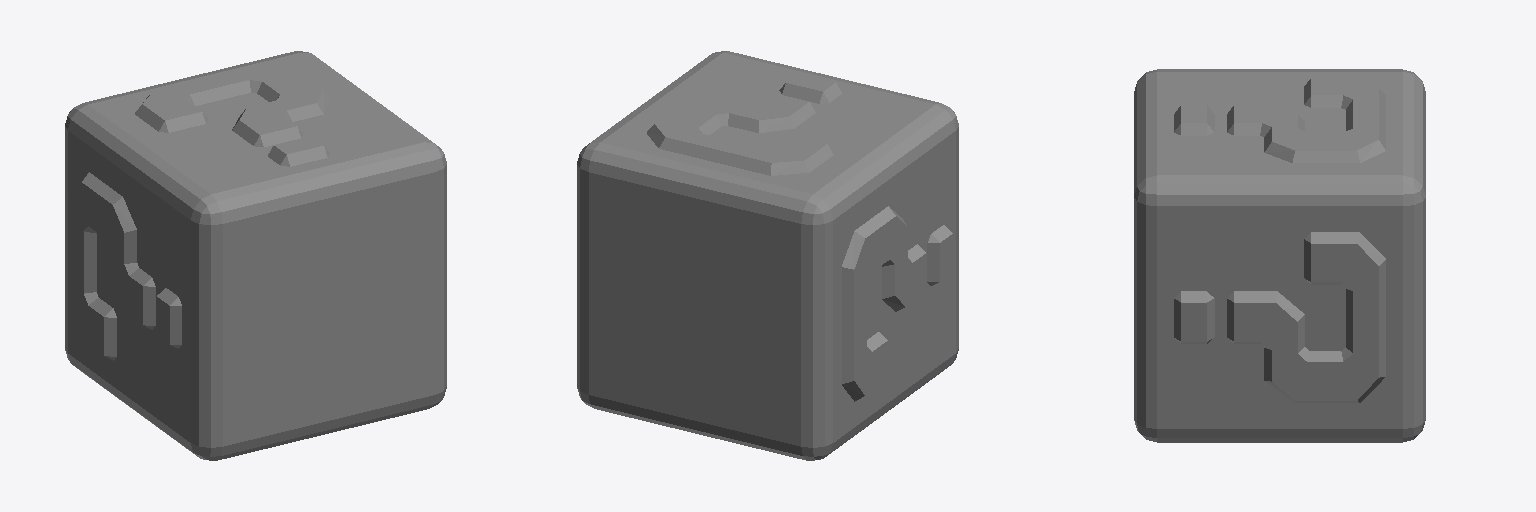
The model's file is BlockQuestion.obj.
The picture shows the model from 3 angles: view 1: azimuth 30°, elevation 25°; view 2: azimuth 150°, elevation 25°; view 3: azimuth 270°, elevation 25°; orthographic projection.
Parts seen in each view (by area): view 1: BlockQuestion__BlockQuestionMat00, BlockQuestion__BlockQuestionMat01; view 2: BlockQuestion__BlockQuestionMat00, BlockQuestion__BlockQuestionMat01; view 3: BlockQuestion__BlockQuestionMat00, BlockQuestion__BlockQuestionMat01.
Part boxes in pixels (left/top/right/bottom): BlockQuestion__BlockQuestionMat00: left=65, top=51, right=446, bottom=460; BlockQuestion__BlockQuestionMat01: left=71, top=65, right=330, bottom=360; BlockQuestion__BlockQuestionMat00: left=577, top=51, right=958, bottom=460; BlockQuestion__BlockQuestionMat01: left=647, top=73, right=952, bottom=401; BlockQuestion__BlockQuestionMat00: left=1134, top=69, right=1425, bottom=442; BlockQuestion__BlockQuestionMat01: left=1174, top=77, right=1385, bottom=402.
Size of the model in its own units: 110 by 110 by 103.